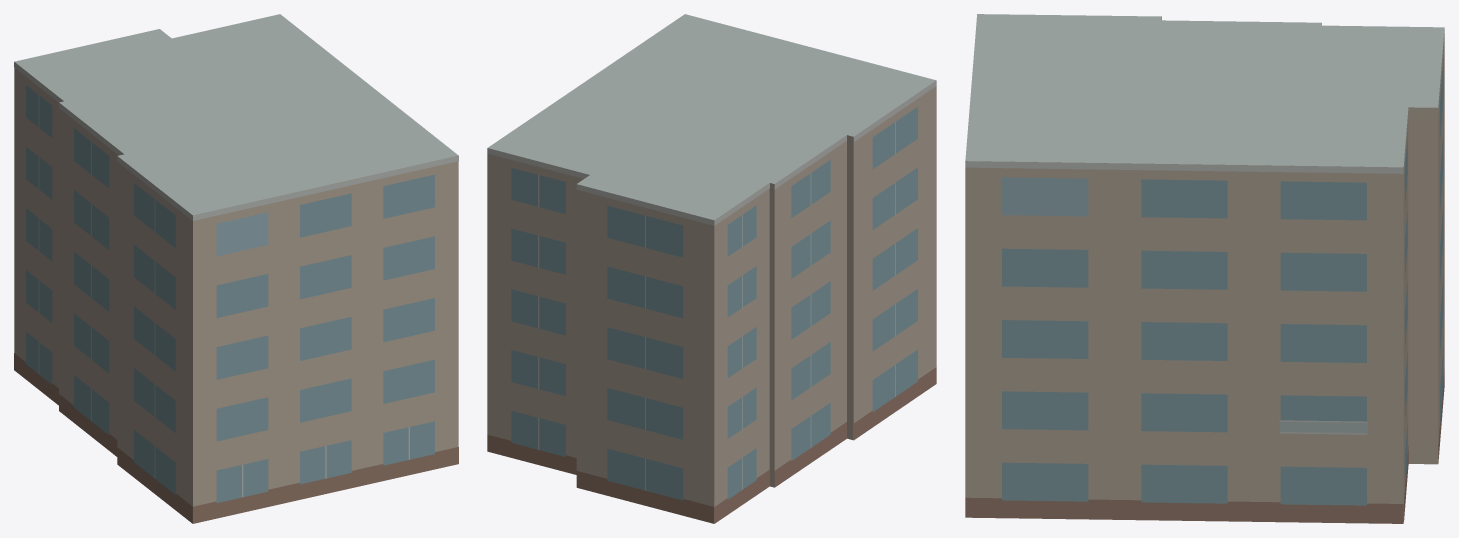
Rendered from survey-upis-32669765.glb.
The picture shows the model from 3 angles, left to right: view 1: azimuth 30°, elevation 25°; view 2: azimuth 150°, elevation 25°; view 3: azimuth 270°, elevation 25°; orthographic projection. The views are drawn at different scales.
Parts seen in each view (by area): view 1: survey-upis-32669765.tmp; view 2: survey-upis-32669765.tmp; view 3: survey-upis-32669765.tmp.
Boxes of the visible parts, box(x1,y1,x2,y2) form: survey-upis-32669765.tmp: box(14, 14, 458, 523); survey-upis-32669765.tmp: box(487, 14, 936, 523); survey-upis-32669765.tmp: box(965, 14, 1444, 523).
Size of the model in its own units: 12.28 by 13.3 by 16.22.
